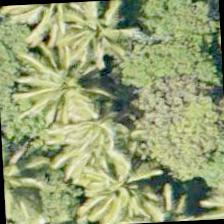Kelapa_Sawit: (64, 125, 160, 220), (19, 30, 114, 125), (30, 105, 125, 200), (19, 40, 114, 135), (48, 0, 143, 83), (1, 135, 55, 223)
